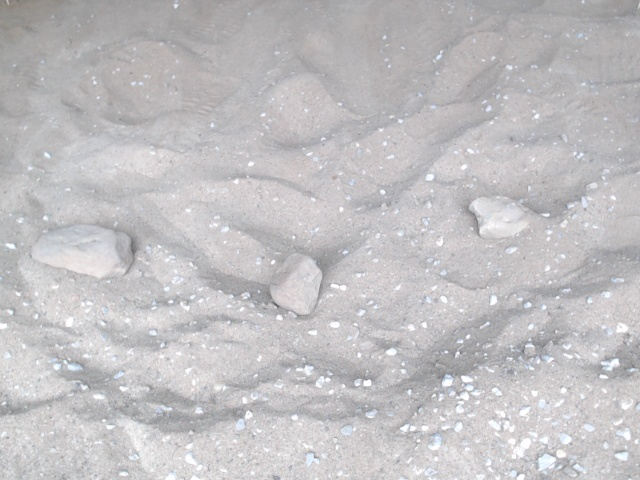rock: (26, 219, 138, 286), (464, 192, 547, 245), (265, 248, 326, 320)
